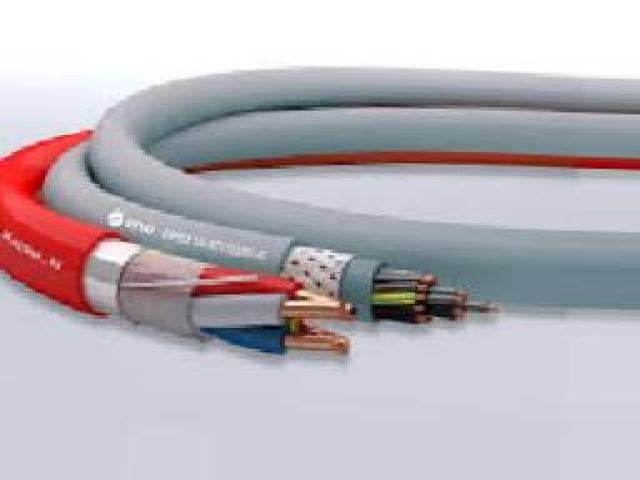wire: (0, 66, 640, 350)
